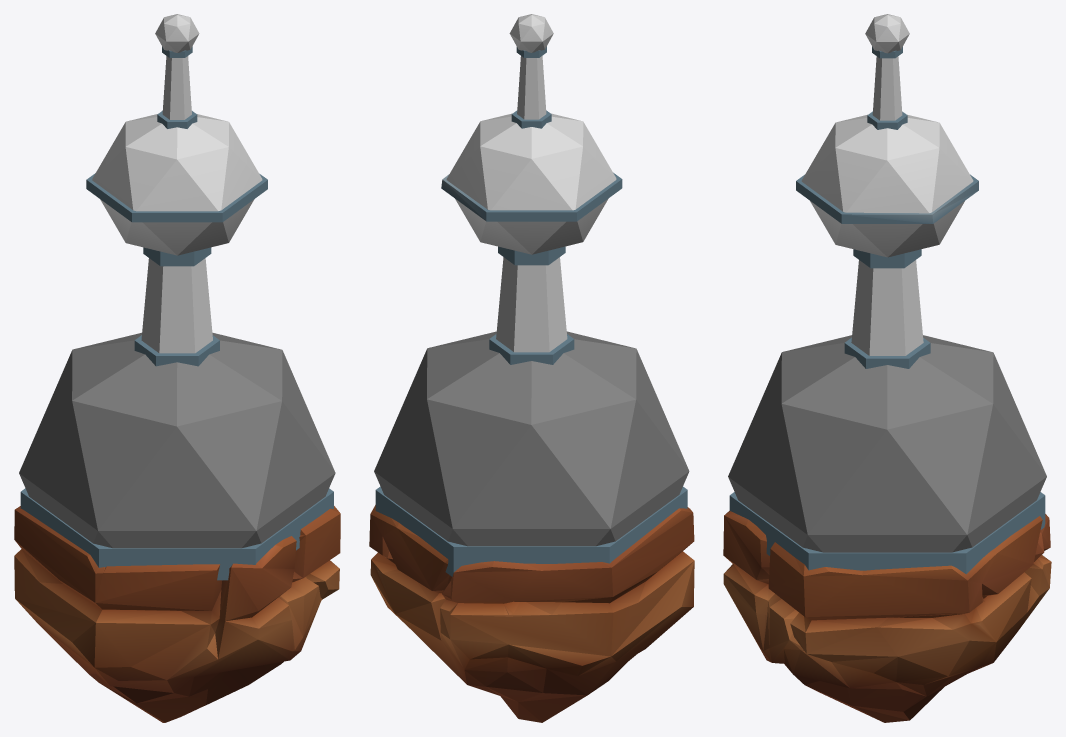
Rendered from PlayerBase.fbx.
3 renders of one model, left to right at view 1: azimuth 30°, elevation 25°; view 2: azimuth 150°, elevation 25°; view 3: azimuth 270°, elevation 25°, orthographic.
Parts seen in each view (by area): view 1: Merged_PM3D_Cylinder3D_2, Merged_PM3D_Cylinder3D_3; view 2: Merged_PM3D_Cylinder3D_2, Merged_PM3D_Cylinder3D_3; view 3: Merged_PM3D_Cylinder3D_2, Merged_PM3D_Cylinder3D_3.
Part boxes in pixels (x1,y1,x2,y2): Merged_PM3D_Cylinder3D_2: (14, 14, 340, 722); Merged_PM3D_Cylinder3D_3: (19, 332, 335, 580); Merged_PM3D_Cylinder3D_2: (369, 14, 694, 722); Merged_PM3D_Cylinder3D_3: (374, 331, 689, 546); Merged_PM3D_Cylinder3D_2: (723, 14, 1051, 722); Merged_PM3D_Cylinder3D_3: (728, 335, 1046, 552).
Size of the model in its own units: 1.77 by 4.77 by 1.99.
